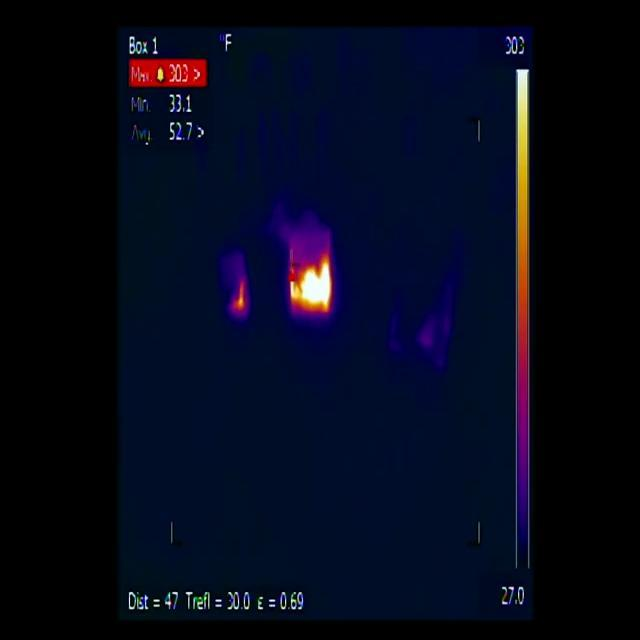fire: (291, 245, 334, 316), (232, 278, 249, 316)
